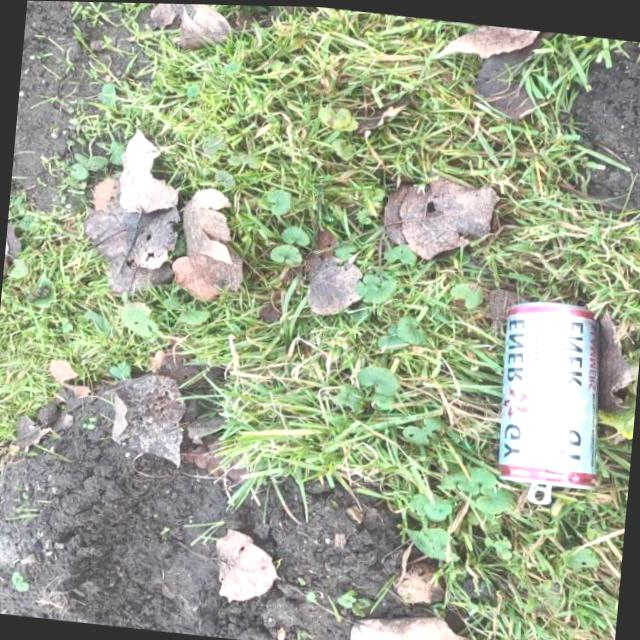Can-Metal: (482, 289, 612, 512)
